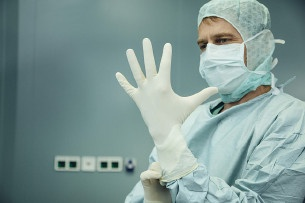Mask: (195, 32, 258, 95)
